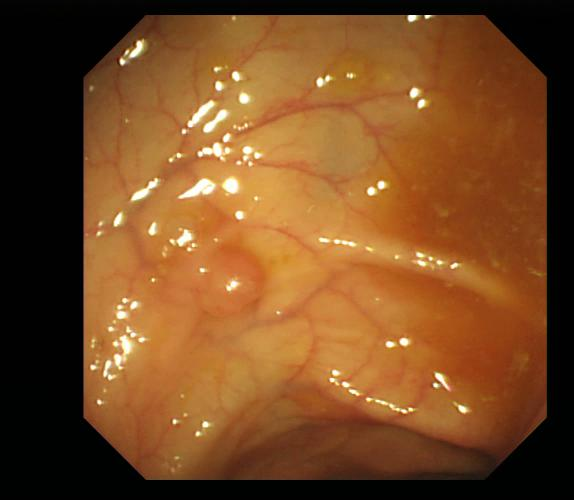polyp: (201, 249, 269, 319)
